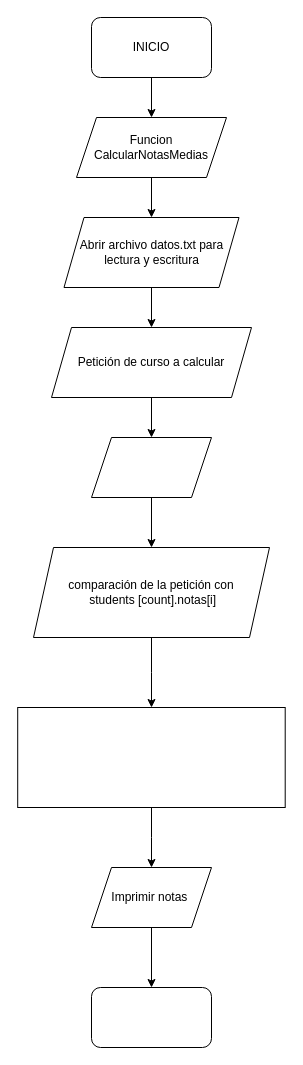
This 303x1065 diagram has some shape labels left out. The shapes that lost their labels are listed below. From the top down, each one's centre as x and y in pixels, then its label:
At (x=151, y=467): "sscanf archivo".
At (x=151, y=757): "Calcular nota media de cada asignatura, nota máxima y mínima".
At (x=151, y=1017): "FIN".
